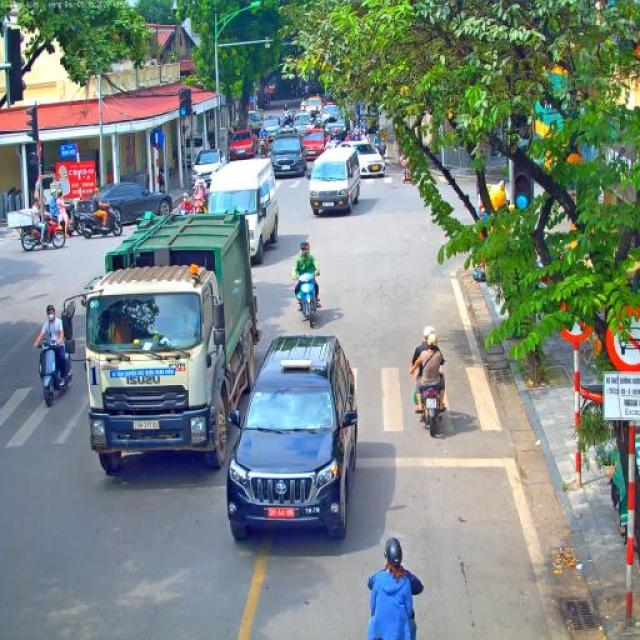bus: (208, 156, 280, 266), (308, 142, 362, 216)
car: (226, 332, 358, 542), (78, 181, 174, 225), (270, 132, 306, 178), (192, 148, 227, 191), (352, 141, 386, 179), (299, 128, 326, 162), (229, 130, 256, 160), (258, 116, 282, 146), (324, 113, 347, 143), (304, 96, 322, 123), (292, 113, 312, 135), (320, 104, 340, 124)
motorcycle: (413, 362, 446, 438), (38, 340, 74, 408), (20, 210, 66, 252), (81, 201, 124, 239), (293, 271, 318, 328), (54, 200, 84, 238), (192, 194, 208, 213), (176, 202, 194, 216), (258, 138, 268, 158), (378, 142, 387, 162), (280, 114, 292, 128), (315, 114, 323, 130), (333, 135, 343, 147), (309, 118, 316, 130), (326, 138, 334, 148)
truck: (61, 207, 262, 478), (342, 100, 381, 134), (242, 109, 263, 139)
